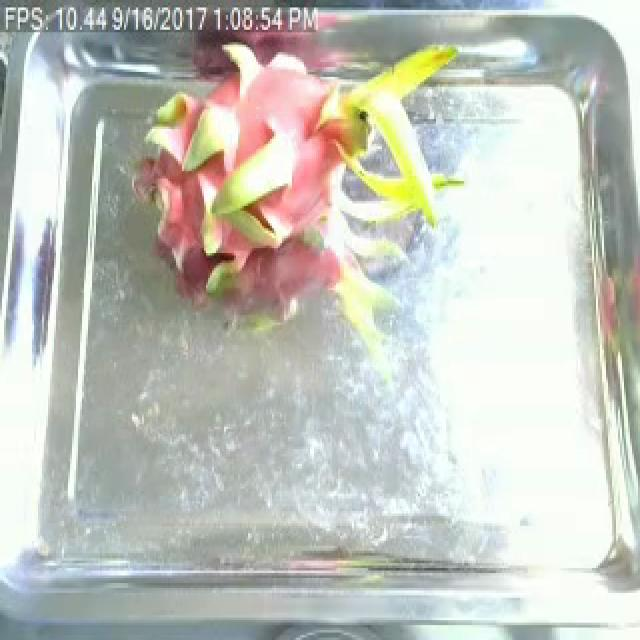fruit: (106, 0, 486, 384)
